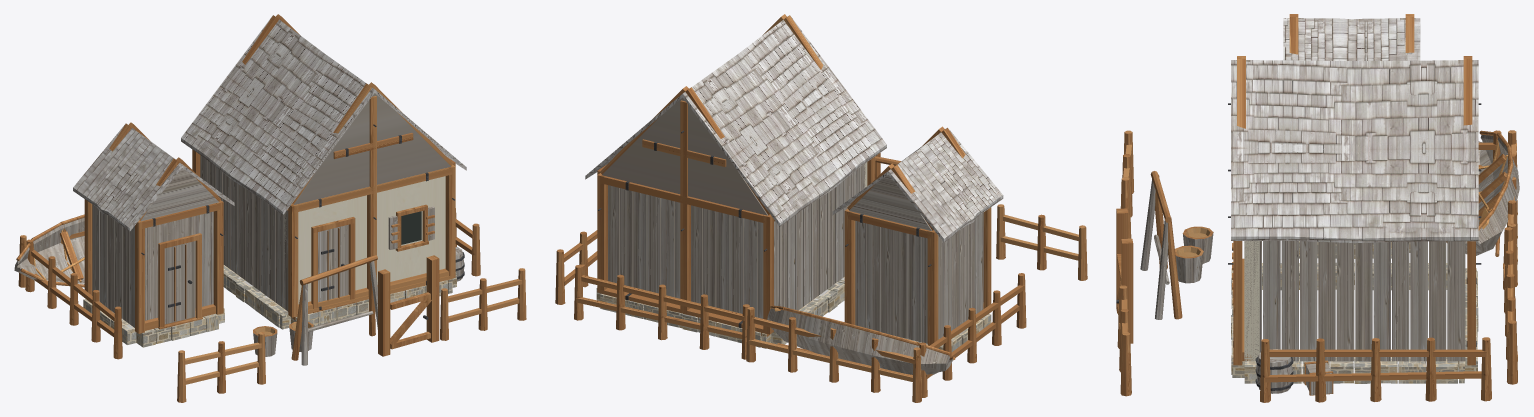
File: fishing_camp_textured_v1.glb
The picture shows the model from 3 angles, left to right: view 1: azimuth 30°, elevation 25°; view 2: azimuth 150°, elevation 25°; view 3: azimuth 270°, elevation 25°; orthographic projection. The views are drawn at different scales.
Visible parts, largest first — view 1: FC_Main_Roof_Left, FC_Main_Front_Gable, FC_Main_Left_Plank_Wall, FC_Shed_Roof_Left, FC_Main_Front_Window_Host, FC_Shed_Left_Wall, FC_Shed_Service_Door, FC_Shed_Front_Door_Host, FC_Main_Front_Door_Host, FC_Main_Service_Door, FC_Open_Yard_Gate, FC_Fence_West (+25 smaller); view 2: FC_Main_Roof_Left, FC_Main_Rear_Plank_Wall, FC_Main_Rear_Gable, FC_Shed_Rear_Wall, FC_Main_Left_Plank_Wall, FC_Shed_Roof_Left, FC_Leaning_River_Dugout, FC_Shed_Left_Wall, FC_Fence_Rear_East, FC_Fence_Rear_West, FC_Fence_West, FC_Shed_Rear_Gable (+17 smaller); view 3: FC_Main_Roof_Right, FC_Main_Right_Plank_Wall, FC_Fence_East, FC_Shed_Roof_Right, FC_Leaning_River_Dugout, FC_Fish_Drying_Rack, FC_Main_Foundation_Right, FC_Main_Front_Window_Host, FC_Fence_Rear_East, FC_Open_Yard_Gate, FC_Wash_Buckets, FC_Fence_Front_East (+13 smaller).
Boxes of the visible parts, x1,y1,x2,y2 form: FC_Main_Roof_Left: (181, 15, 374, 214); FC_Main_Front_Gable: (292, 82, 453, 204); FC_Main_Left_Plank_Wall: (200, 155, 288, 311); FC_Shed_Roof_Left: (73, 123, 182, 231); FC_Main_Front_Window_Host: (377, 167, 448, 289); FC_Shed_Left_Wall: (92, 204, 134, 327); FC_Shed_Service_Door: (158, 233, 202, 329); FC_Shed_Front_Door_Host: (145, 211, 215, 330); FC_Main_Front_Door_Host: (284, 186, 369, 309); FC_Main_Service_Door: (311, 217, 356, 312); FC_Open_Yard_Gate: (378, 255, 439, 356); FC_Fence_West: (25, 239, 122, 359); FC_Main_Roof_Left: (682, 15, 886, 226); FC_Main_Rear_Plank_Wall: (608, 185, 763, 318); FC_Main_Rear_Gable: (600, 86, 769, 215); FC_Shed_Rear_Wall: (855, 221, 927, 343); FC_Main_Left_Plank_Wall: (774, 163, 865, 310); FC_Shed_Roof_Left: (888, 127, 1003, 242); FC_Leaning_River_Dugout: (767, 305, 955, 380); FC_Shed_Left_Wall: (938, 213, 983, 339); FC_Fence_Rear_East: (574, 265, 749, 359); FC_Fence_Rear_West: (746, 307, 921, 402); FC_Fence_West: (919, 273, 1026, 397); FC_Shed_Rear_Gable: (847, 163, 933, 230); FC_Main_Roof_Right: (1231, 60, 1478, 242); FC_Main_Right_Plank_Wall: (1244, 240, 1464, 361); FC_Fence_East: (1260, 337, 1491, 402); FC_Shed_Roof_Right: (1283, 18, 1420, 60); FC_Leaning_River_Dugout: (1446, 130, 1519, 256); FC_Fish_Drying_Rack: (1140, 171, 1182, 319); FC_Main_Foundation_Right: (1244, 357, 1464, 383); FC_Main_Front_Window_Host: (1242, 241, 1259, 361); FC_Fence_Rear_East: (1503, 227, 1517, 384); FC_Open_Yard_Gate: (1116, 208, 1133, 343); FC_Wash_Buckets: (1175, 226, 1213, 283); FC_Fence_Front_East: (1117, 285, 1131, 396).
Bounding box in the file's own units: 9.53 × 5.5 × 7.3.
14 materials, 13 textured.
